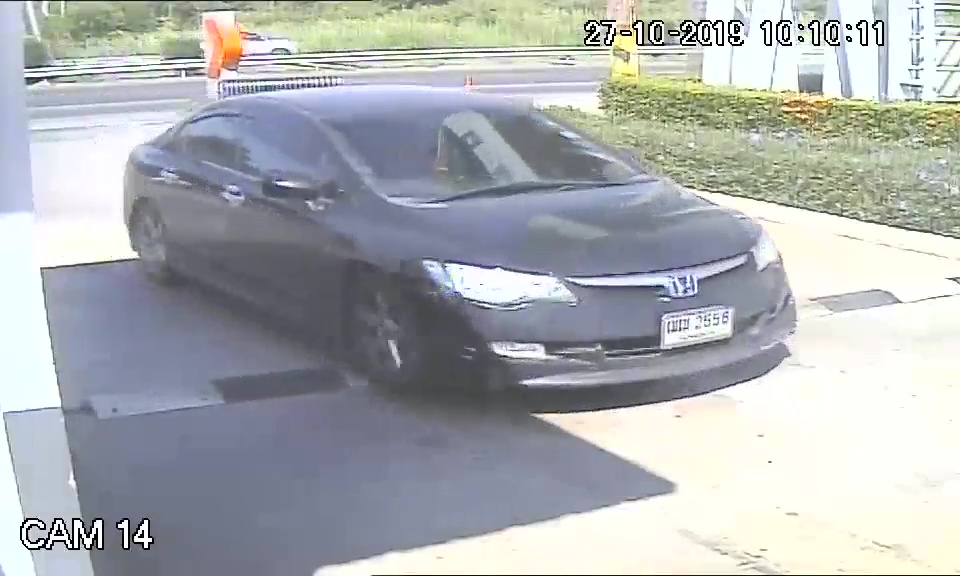sedan: (123, 83, 801, 401)
